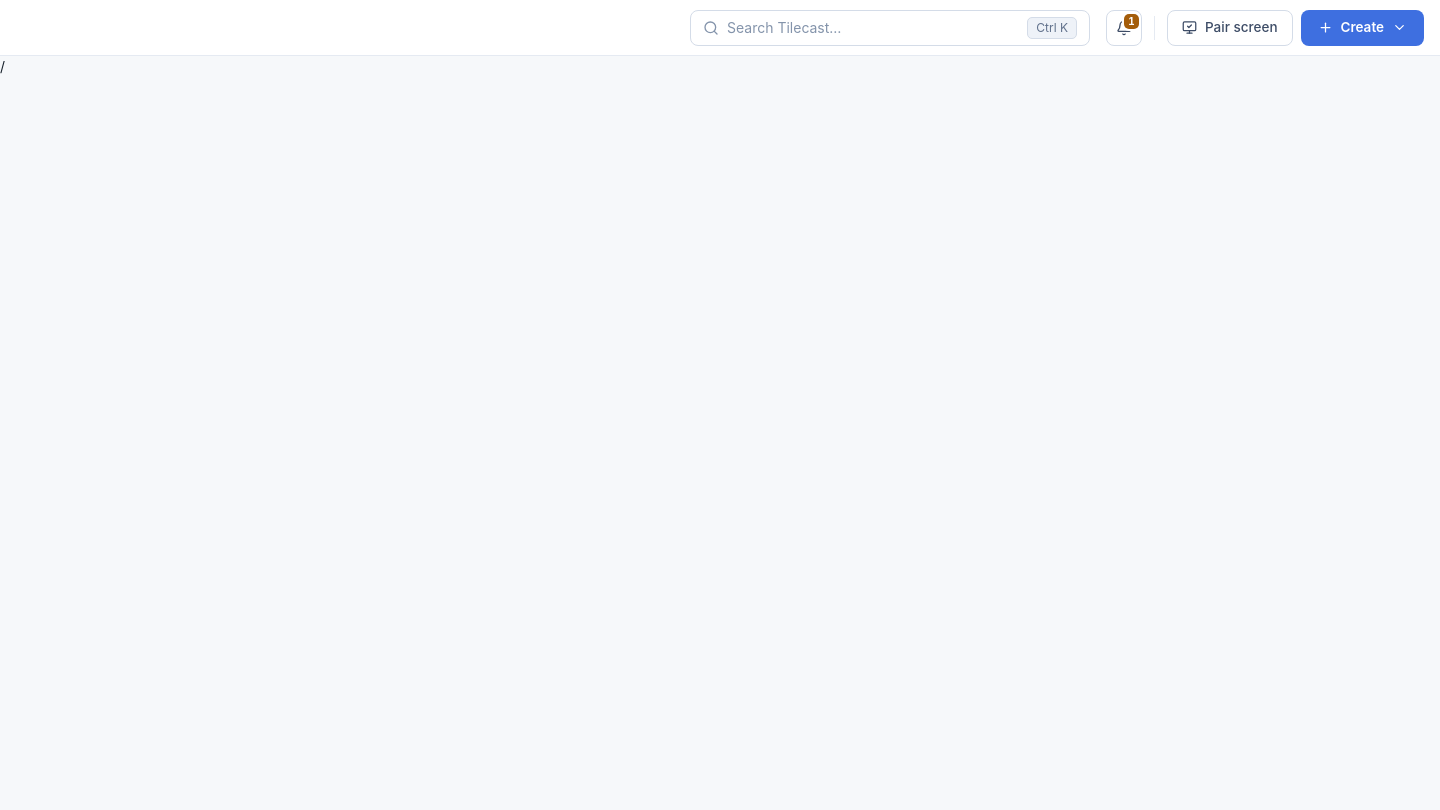
Test: StudioTopbar › shows active alerts and keeps global actions in the utility region
The image size is (1440, 810).
Expected: the text "1" is shown, [1124,14,1139,28]
Expected: the link "Pair screen" is shown, [1167,10,1292,46]
Click the button named "Notifications" at (1124,28), box [1106,10,1142,46]
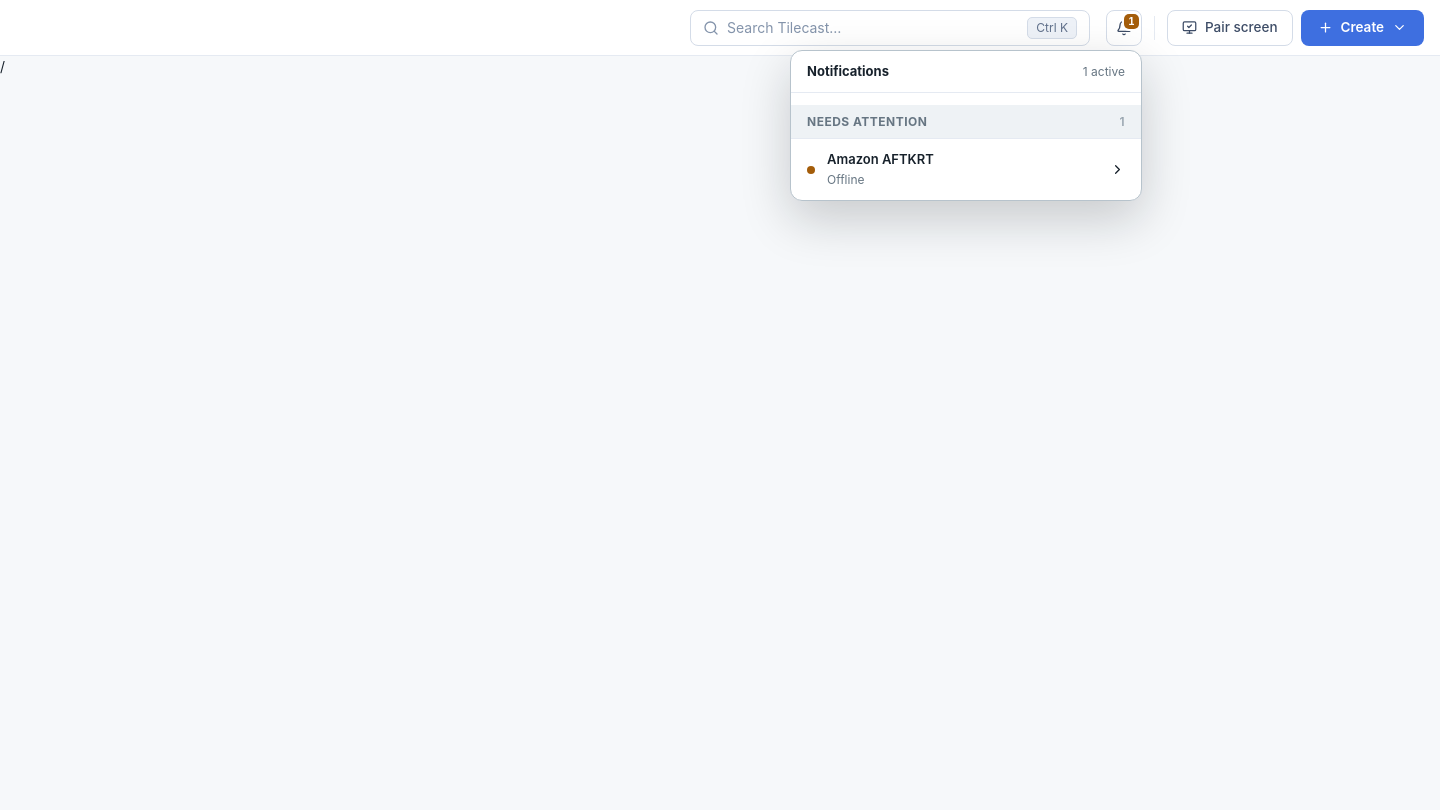
Expected: the dialog "Notifications" is shown, [790,50,1142,201]
